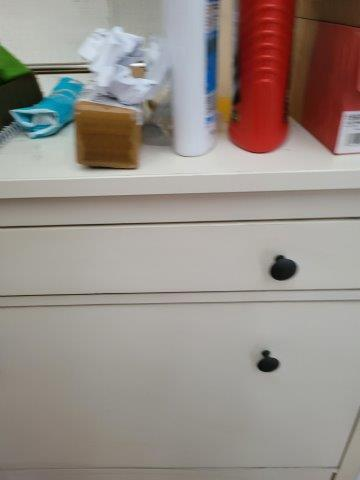kardus: (62, 92, 163, 176)
kertas: (73, 25, 170, 102)
